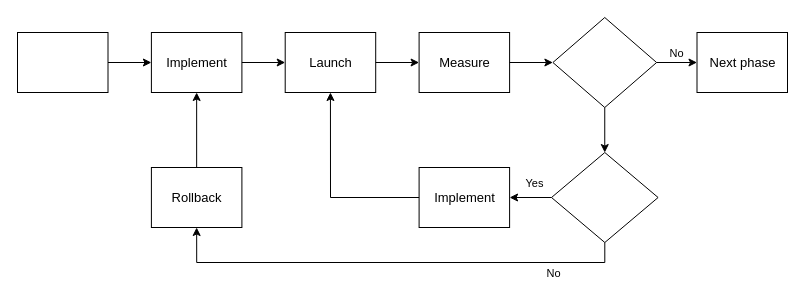
Some shapes in this 805 by 297 pixel diagram are drawn without their labels. Here are the shapes that lost their labels. From the top down, the centre of each, then its label:
At point (62, 62): "Define scope".
At point (604, 62): "Conflict".
At point (604, 197): "Quick fixes".
